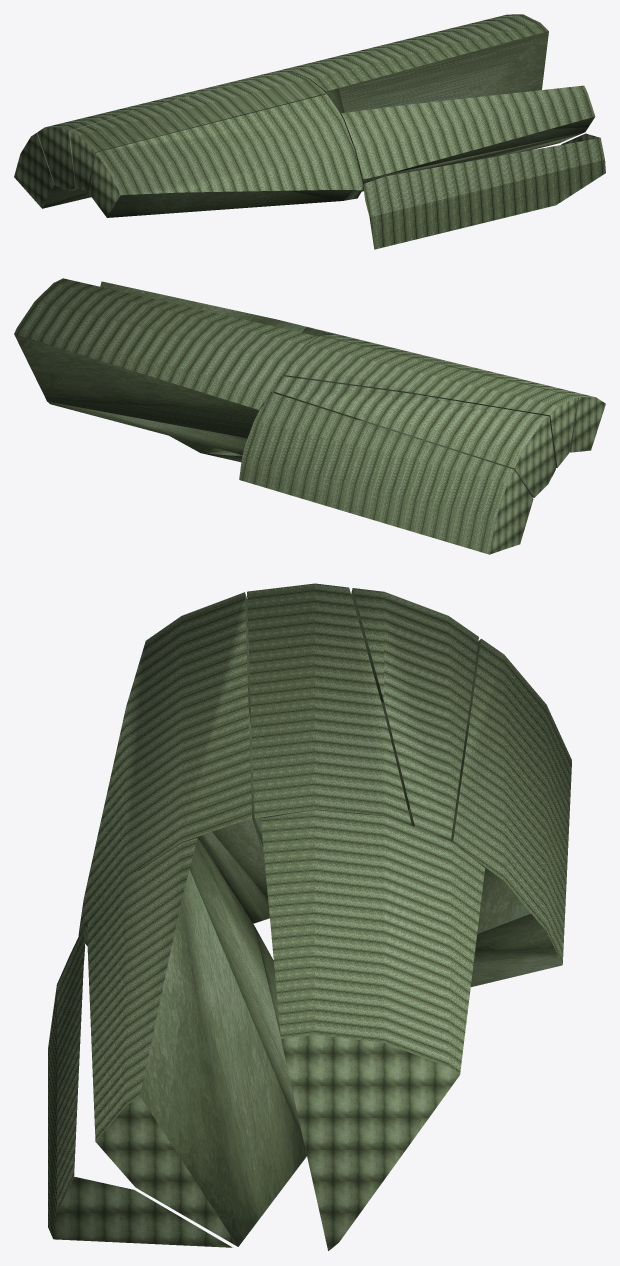
The model's file is L2Bunker.fbx.
3 renders of one model, top to bottom at view 1: azimuth 30°, elevation 25°; view 2: azimuth 150°, elevation 25°; view 3: azimuth 270°, elevation 25°, orthographic. The views are drawn at different scales.
Visible parts, largest first — view 1: Bunker_cell.006, Bunker_cell.011, Bunker_cell.018, Bunker_cell.005, Bunker_cell.013, Bunker_cell.016, Bunker_cell.004; view 2: Bunker_cell.011, Bunker_cell.004, Bunker_cell.016, Bunker_cell.013, Bunker_cell.006, Bunker_cell.018; view 3: Bunker_cell.011, Bunker_cell.018, Bunker_cell.006, Bunker_cell.013, Bunker_cell.004, Bunker_cell.016, Bunker_cell.005.
Part boxes in pixels (box(x1,y1,x2,y2)): Bunker_cell.006: box(88, 94, 362, 217); Bunker_cell.011: box(274, 14, 548, 113); Bunker_cell.018: box(340, 85, 595, 191); Bunker_cell.005: box(363, 133, 605, 249); Bunker_cell.013: box(69, 71, 325, 190); Bunker_cell.016: box(37, 71, 280, 191); Bunker_cell.004: box(14, 133, 91, 208); Bunker_cell.011: box(14, 278, 317, 454); Bunker_cell.004: box(239, 392, 533, 554); Bunker_cell.016: box(273, 376, 555, 497); Bunker_cell.013: box(283, 336, 578, 467); Bunker_cell.006: box(322, 335, 605, 452); Bunker_cell.018: box(100, 281, 340, 462); Bunker_cell.011: box(261, 810, 484, 1250); Bunker_cell.018: box(87, 838, 306, 1246); Bunker_cell.006: box(78, 592, 269, 946); Bunker_cell.013: box(247, 583, 411, 839); Bunker_cell.004: box(450, 638, 571, 986); Bunker_cell.016: box(351, 588, 478, 840); Bunker_cell.005: box(48, 928, 232, 1247).
Bounding box in the file's own units: 73.6 × 18.92 × 36.15.
